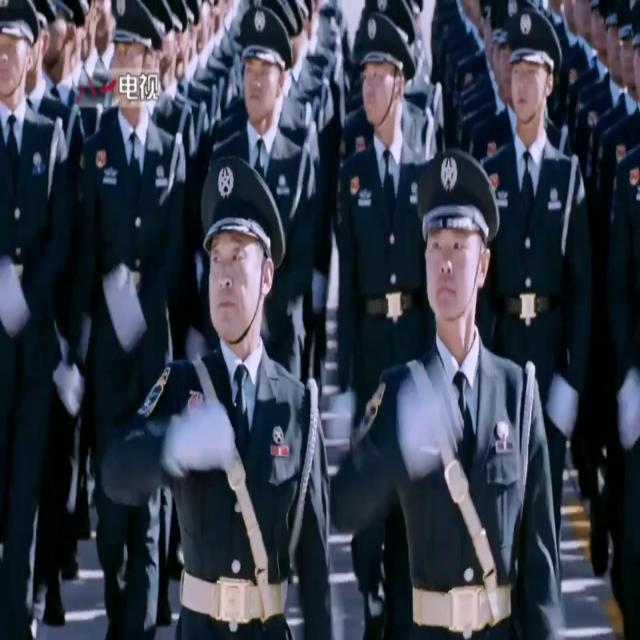Soldier: (342, 156, 568, 640), (111, 165, 332, 640), (71, 0, 185, 453), (0, 2, 67, 640), (488, 19, 588, 392), (223, 10, 319, 346), (345, 28, 422, 322)
